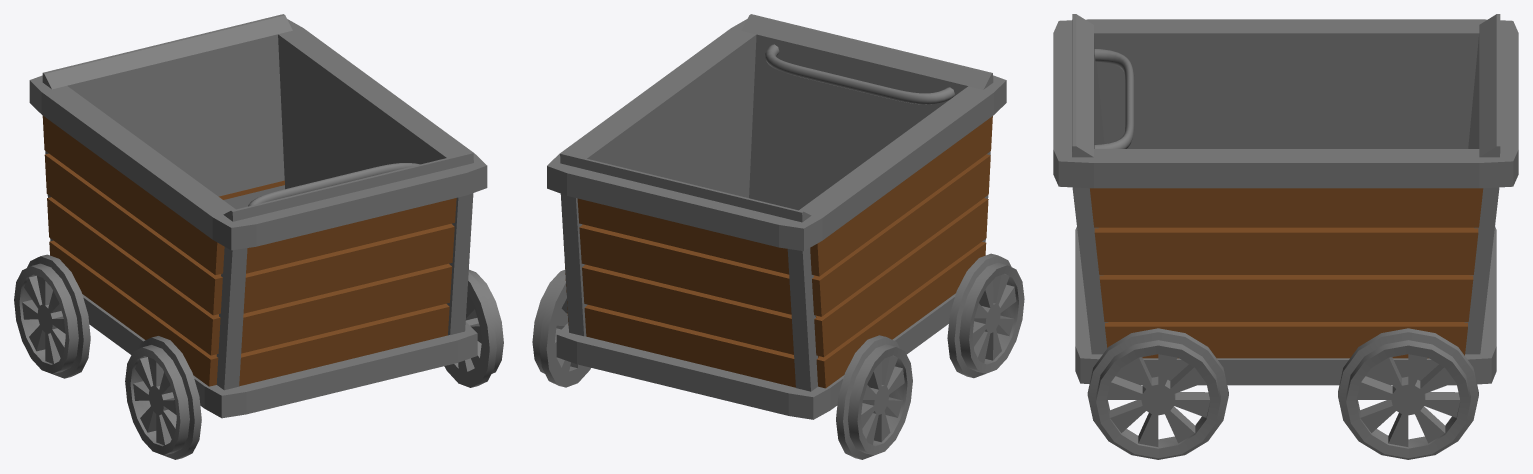
The model's file is Carrinho de minério .fbx.
3 renders of one model, left to right at view 1: azimuth 30°, elevation 25°; view 2: azimuth 150°, elevation 25°; view 3: azimuth 270°, elevation 25°, orthographic. The views are drawn at different scales.
Parts seen in each view (by area): view 1: NurbsPath.003; view 2: NurbsPath.003; view 3: NurbsPath.003.
Boxes of the visible parts, x1,y1,x2,y2 form: NurbsPath.003: (14, 14, 503, 459); NurbsPath.003: (532, 14, 1024, 459); NurbsPath.003: (1053, 14, 1518, 459).
Size of the model in its own units: 197 by 153 by 217.
